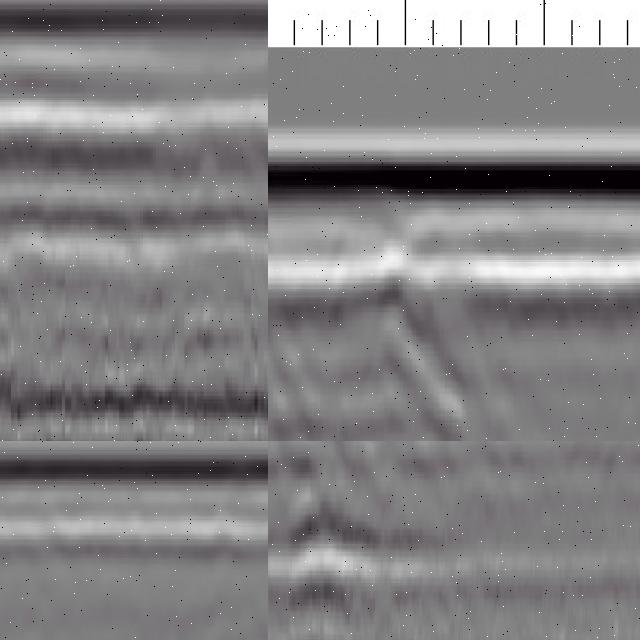loose: (269, 250, 465, 442), (269, 442, 404, 605)
